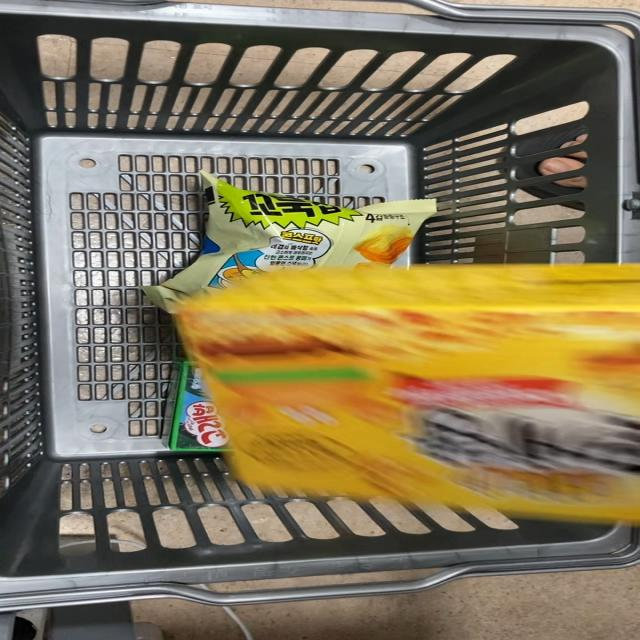ggobukchip: (176, 175, 443, 264)
minicrab: (182, 268, 640, 502)
